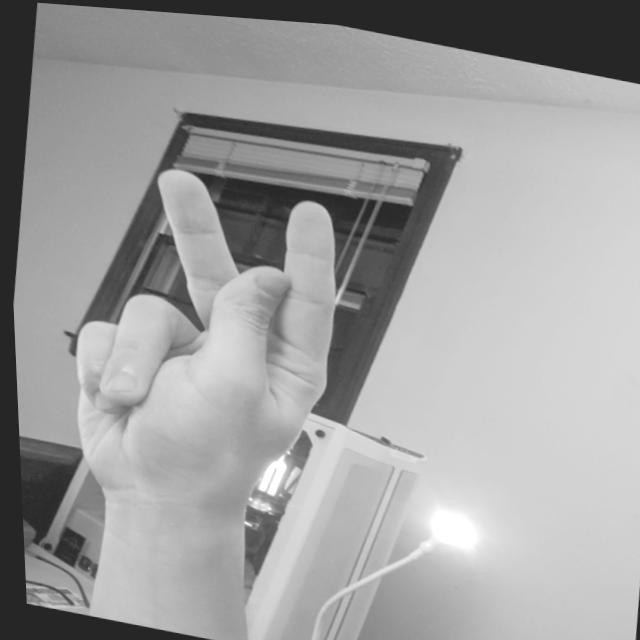K: (41, 135, 363, 539)
